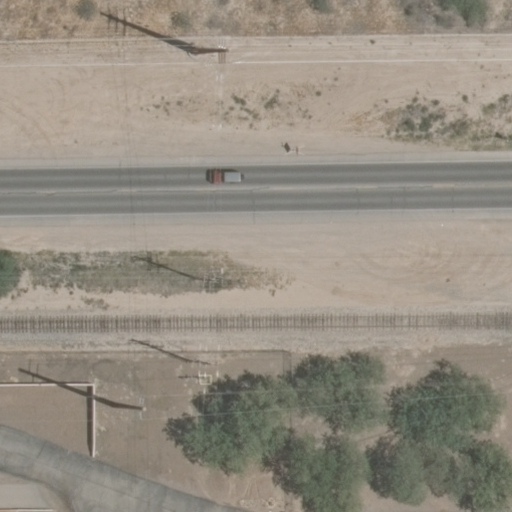DT: (189, 362, 218, 388), (192, 42, 232, 57), (195, 270, 223, 290), (131, 397, 153, 420)
